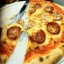pepperoni: (3, 24, 24, 39), (28, 28, 47, 44), (44, 20, 61, 37), (42, 6, 54, 14)
pizza: (28, 1, 64, 64)
